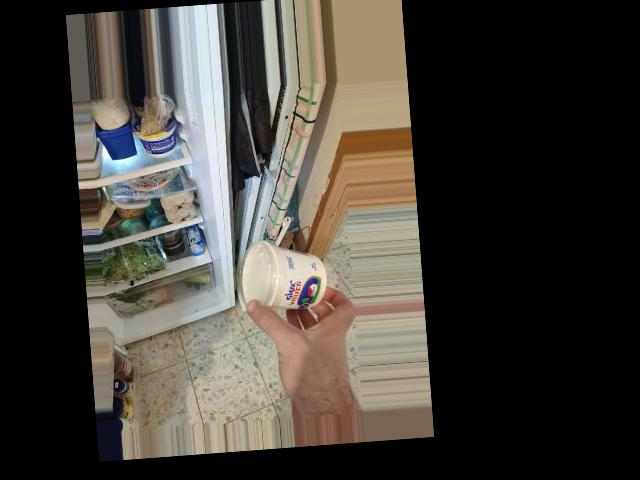cotage: (241, 238, 332, 320)
